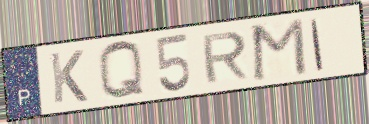5: (154, 32, 193, 94)
I: (308, 17, 326, 72)
K: (47, 48, 90, 106)
M: (250, 16, 309, 83)
Q: (96, 39, 148, 102)
R: (199, 29, 251, 86)
